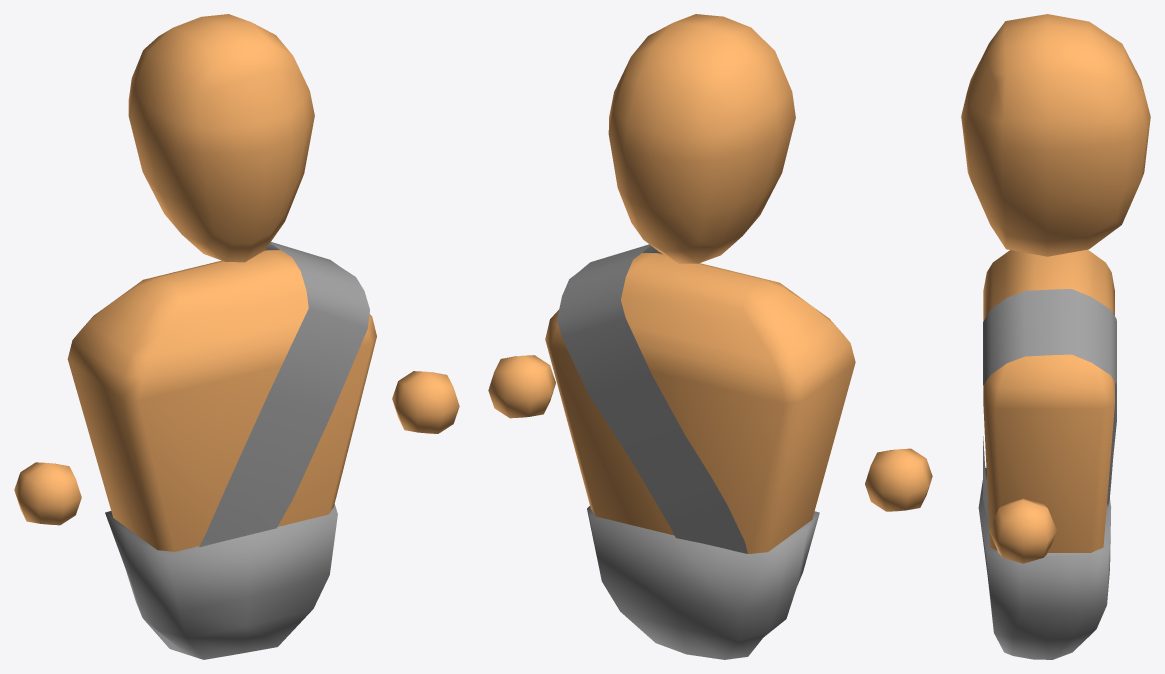
The model's file is nugget.obj.
The picture shows the model from 3 angles, left to right: view 1: azimuth 30°, elevation 25°; view 2: azimuth 150°, elevation 25°; view 3: azimuth 270°, elevation 25°; orthographic projection.
Parts seen in each view (by area): view 1: head.002_Cube.061_Skin.001, head.002_Cube.061_toga; view 2: head.002_Cube.061_Skin.001, head.002_Cube.061_toga; view 3: head.002_Cube.061_Skin.001, head.002_Cube.061_toga.
Part boxes in pixels (x1,y1,x2,y2): head.002_Cube.061_Skin.001: [14, 14, 459, 551]; head.002_Cube.061_toga: [105, 242, 369, 659]; head.002_Cube.061_Skin.001: [488, 14, 932, 553]; head.002_Cube.061_toga: [557, 244, 819, 659]; head.002_Cube.061_Skin.001: [961, 14, 1150, 563]; head.002_Cube.061_toga: [978, 289, 1116, 659].
Bounding box in the file's own units: 1.41 × 1.9 × 0.5322.
